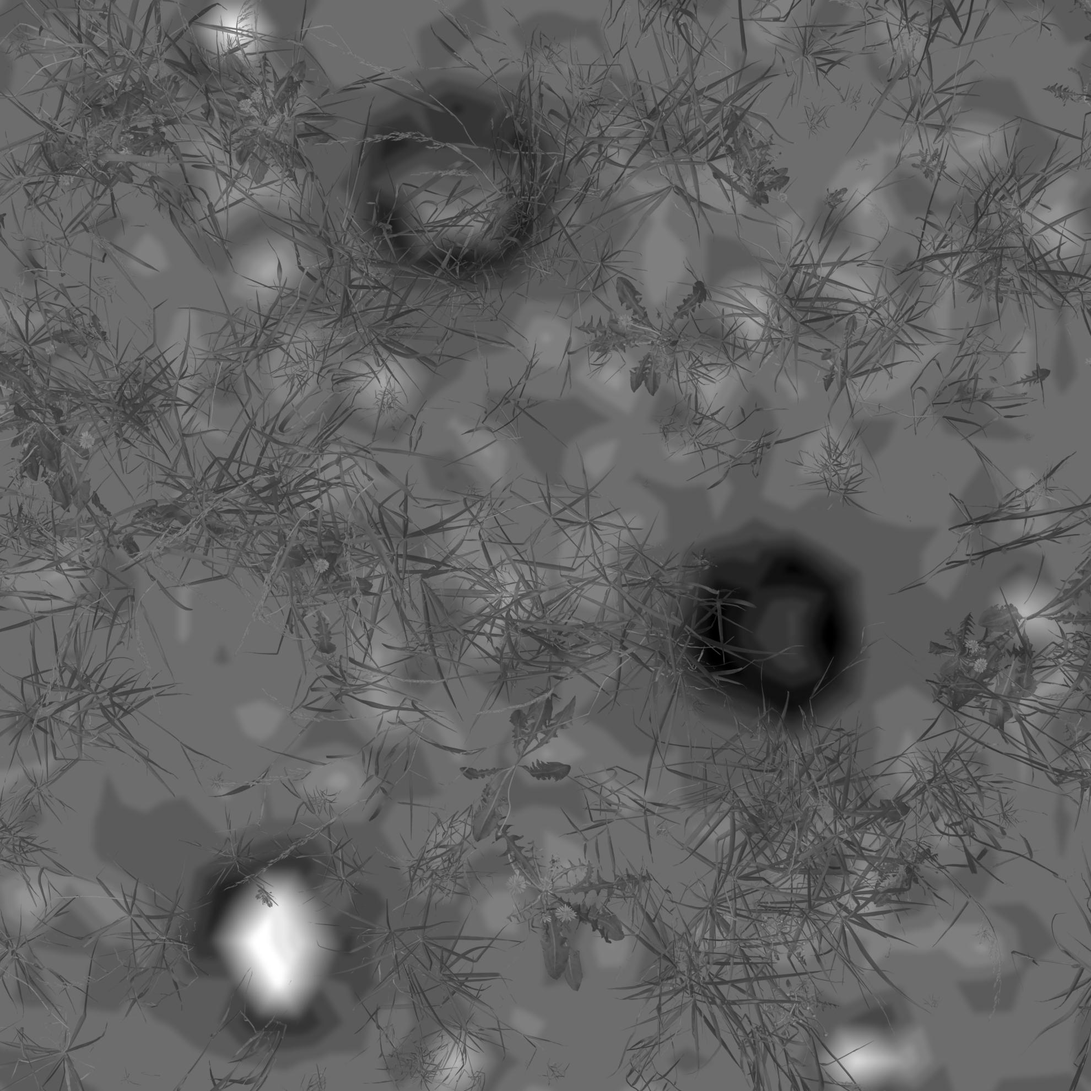landmine: (373, 118, 548, 284), (694, 546, 859, 712), (206, 868, 362, 1031)
